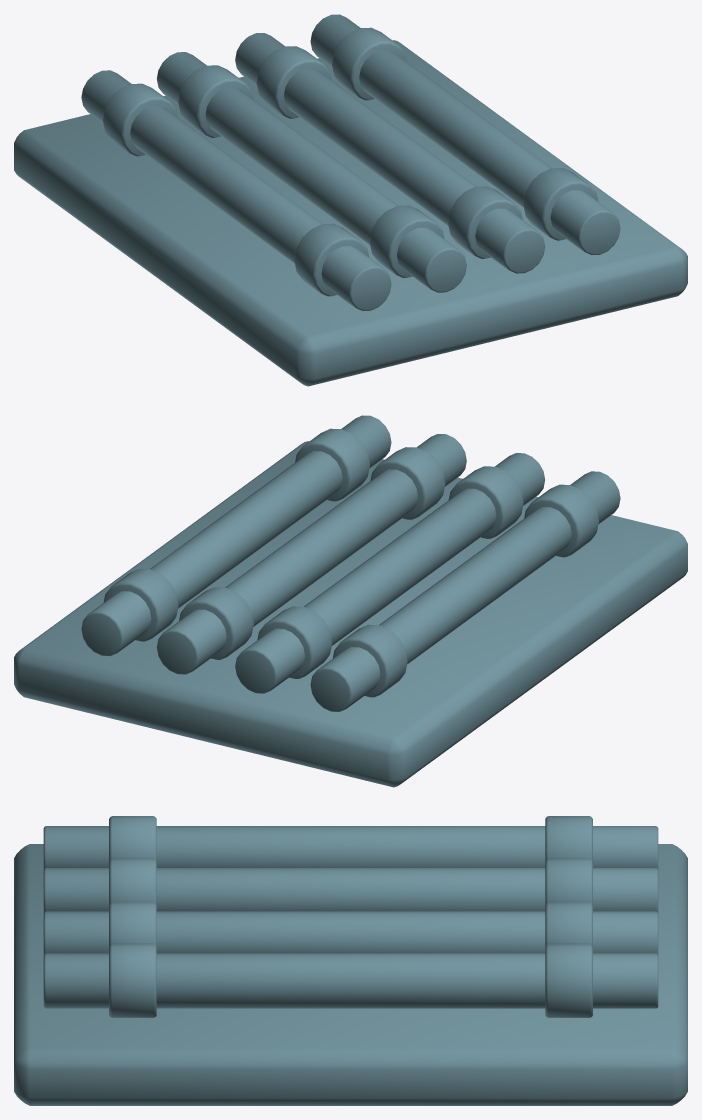
File: Canard.fbx
3 views of the same model, one above another, from view 1: azimuth 30°, elevation 25°; view 2: azimuth 150°, elevation 25°; view 3: azimuth 270°, elevation 25° (orthographic). The views are drawn at different scales.
Visible parts, largest first — view 1: Render_LOD0; view 2: Render_LOD0; view 3: Render_LOD0.
Boxes of the visible parts, x1,y1,x2,y2 form: Render_LOD0: (14,14,687,386); Render_LOD0: (14,415,687,787); Render_LOD0: (14,816,687,1105).
Size of what is drawn, in the model's own units: 1.3 by 0.335 by 1.7.
